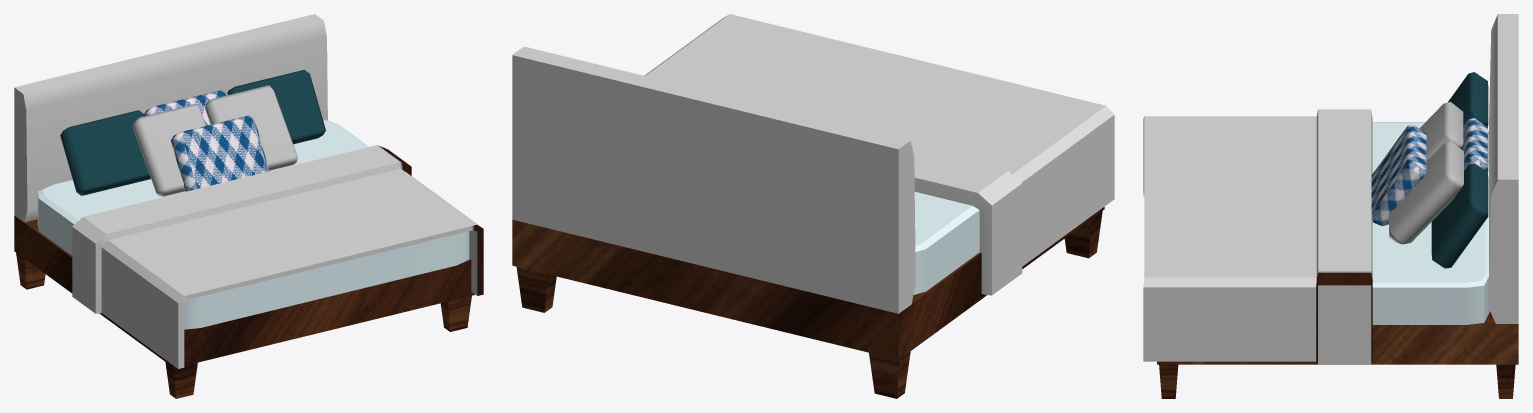
The model's file is King Size Bed.fbx.
3 renders of one model, left to right at view 1: azimuth 30°, elevation 25°; view 2: azimuth 150°, elevation 25°; view 3: azimuth 270°, elevation 25°, orthographic. The views are drawn at different scales.
Visible parts, largest first — view 1: King1_pCube10; view 2: King1_pCube10; view 3: King1_pCube10.
Boxes of the visible parts, bbox=[...] form: King1_pCube10: bbox=[14, 14, 483, 398]; King1_pCube10: bbox=[512, 14, 1114, 398]; King1_pCube10: bbox=[1143, 14, 1518, 398].
Size of the model in its own units: 223 by 133 by 203.
